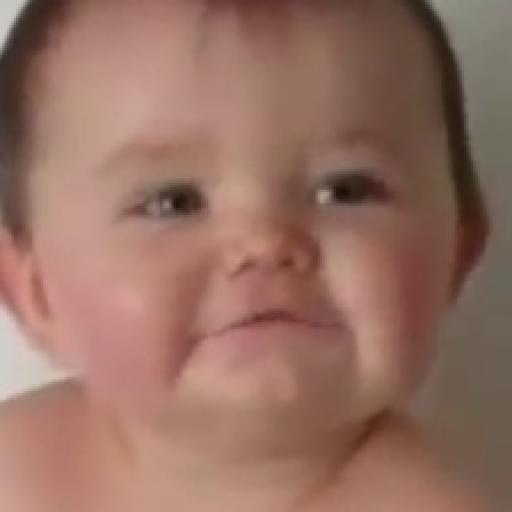Autism: (30, 18, 478, 479)
